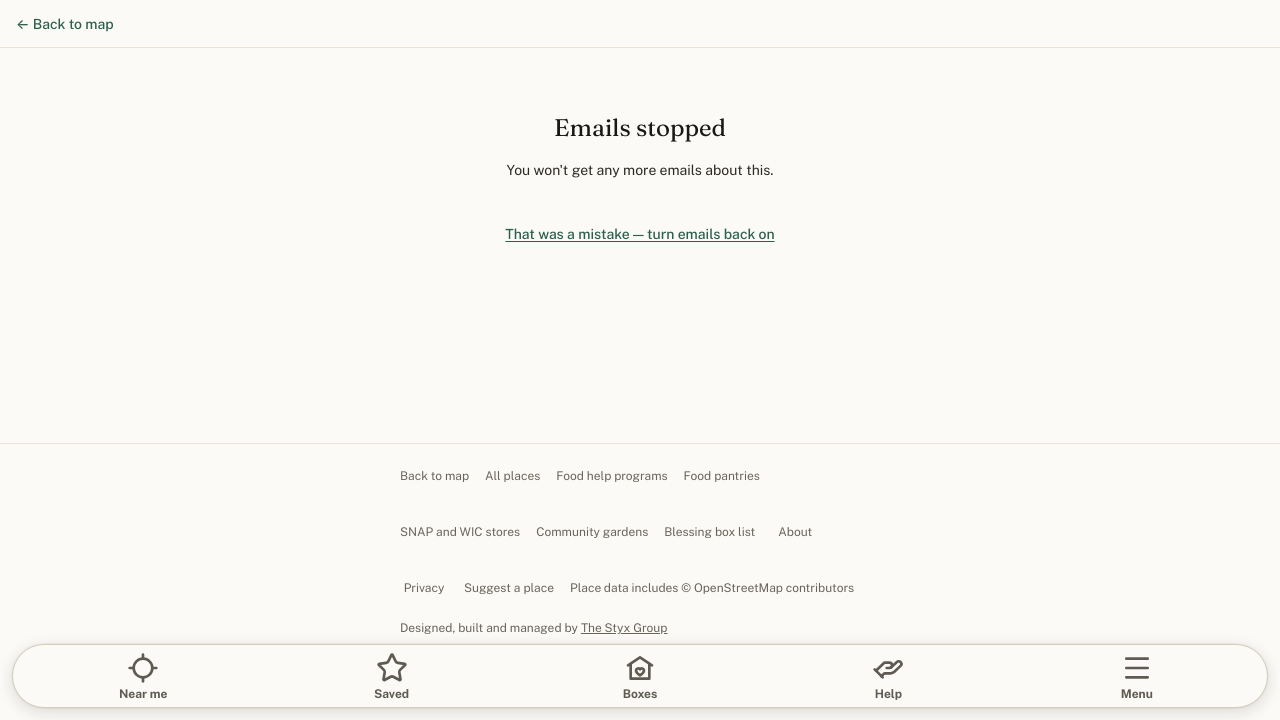
Test case: AlertsStopContent › undo button posts the token to /api/public/alerts/resubscribe and shows the undone message
Expected: the text "You won't get any more emails about this." is shown, [507, 162, 774, 178]
Click the button "That was a mistake — turn emails back on". click: (640, 234)
box: [489, 212, 791, 256]
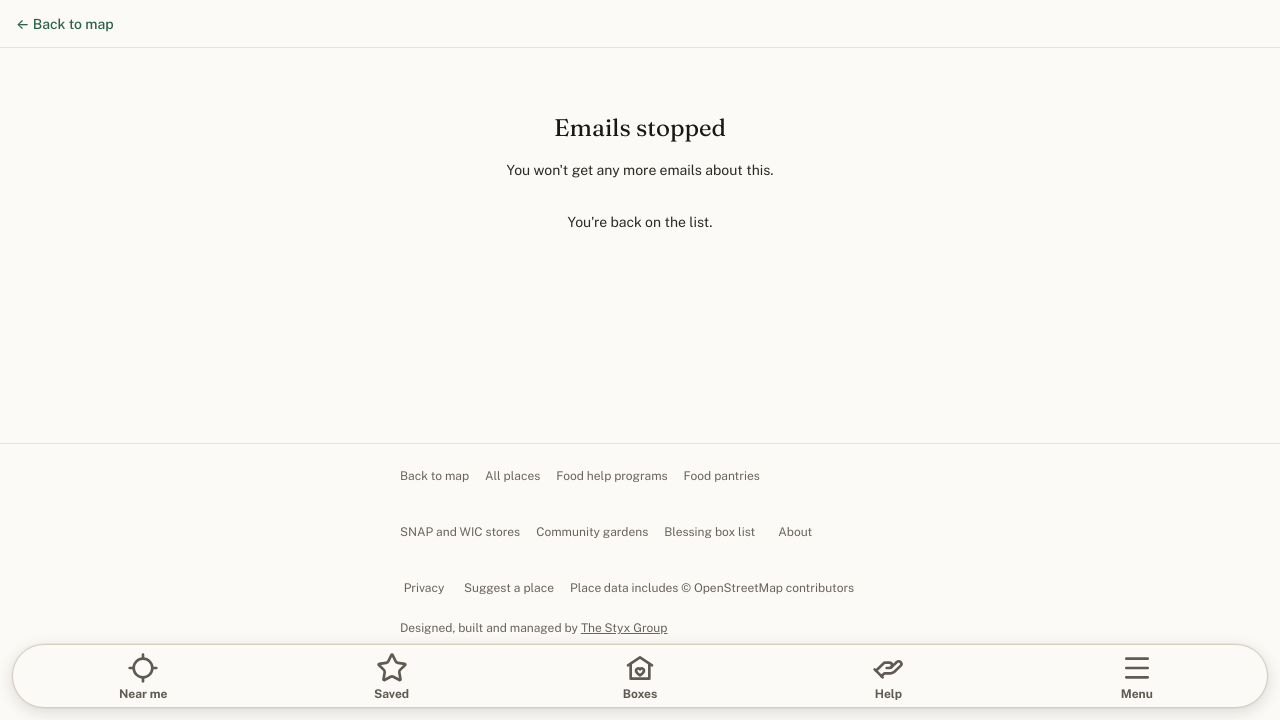
Result: the text "You're back on the list." is shown at [568, 214, 712, 230]
